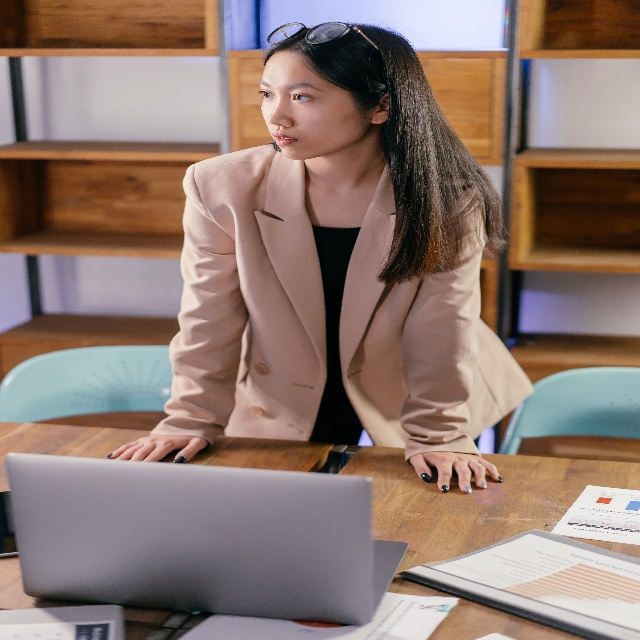Gafas: (266, 20, 379, 51)
Sin_guantes: (409, 452, 503, 494), (106, 434, 207, 464)
